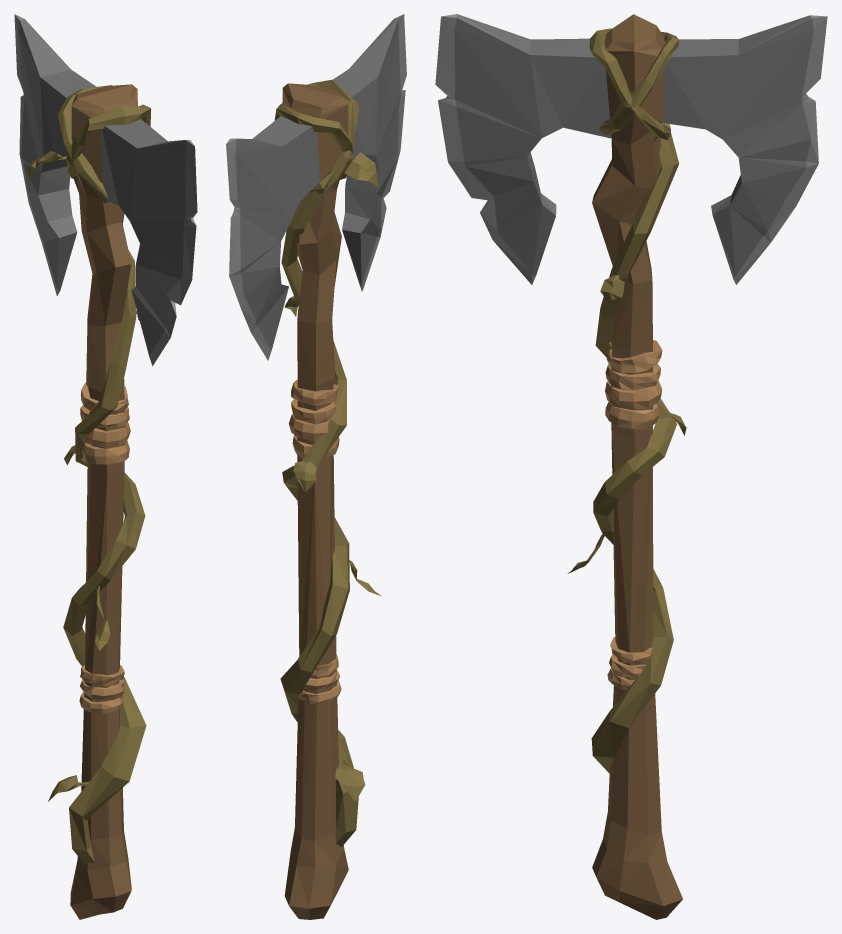
File: SFNP_Axe_001 1.fbx
3 views of the same model, side by side, from view 1: azimuth 30°, elevation 25°; view 2: azimuth 150°, elevation 25°; view 3: azimuth 270°, elevation 25° (orthographic). The views are drawn at different scales.
Parts seen in each view (by area): view 1: SFNP_Axe_001; view 2: SFNP_Axe_001; view 3: SFNP_Axe_001.
Part boxes in pixels (left/top/right/bottom): SFNP_Axe_001: left=14, top=14, right=197, bottom=919; SFNP_Axe_001: left=226, top=14, right=406, bottom=919; SFNP_Axe_001: left=435, top=14, right=827, bottom=919.
Size of the model in its own units: 12.61 by 90.14 by 35.53.
